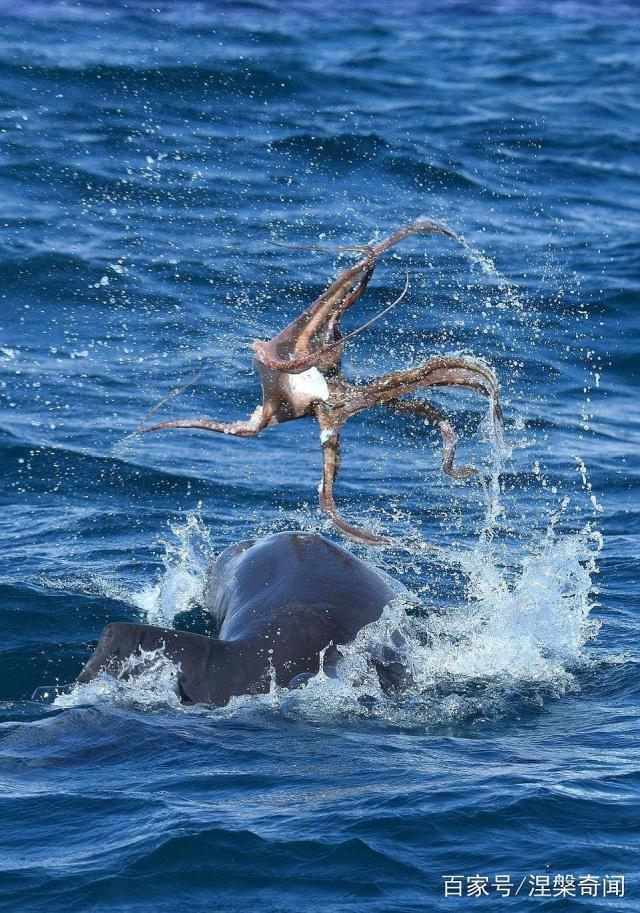fish: (69, 523, 401, 722)
